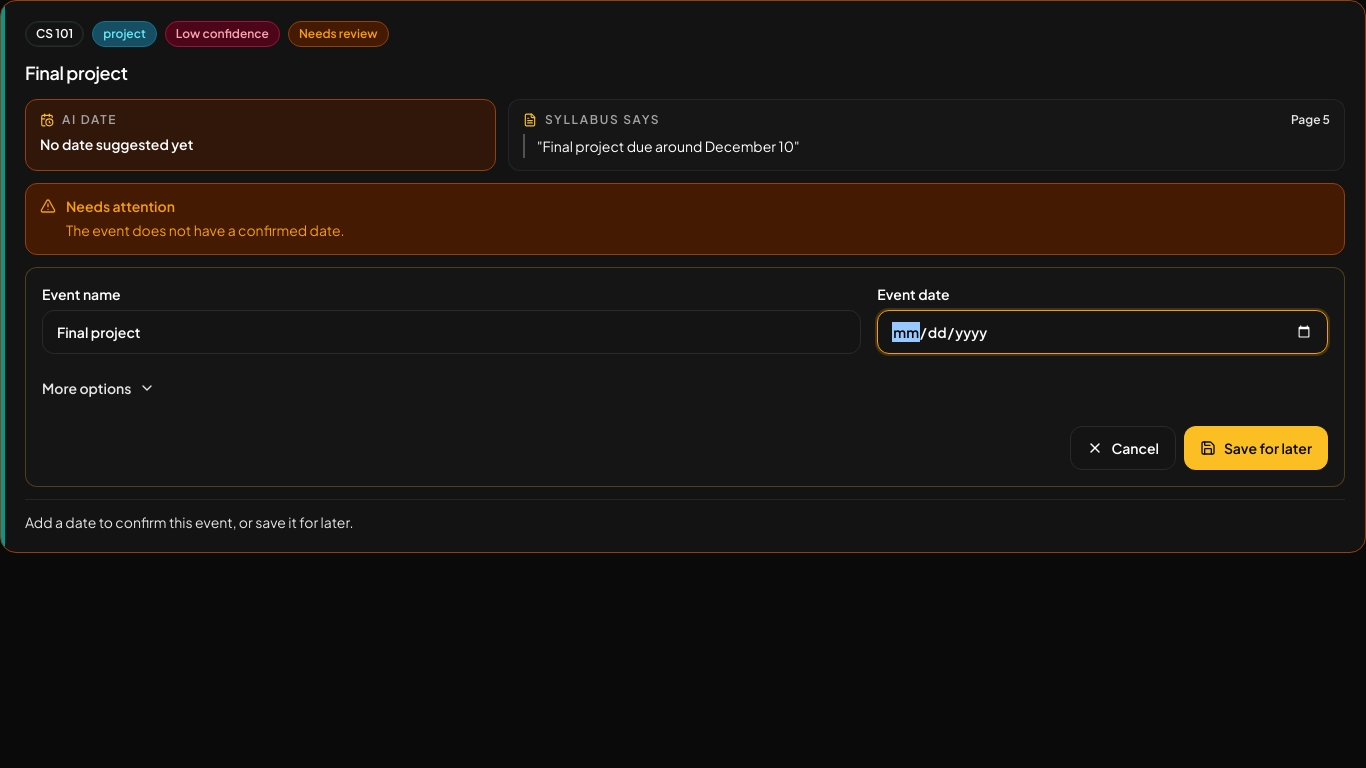
Scenario: keeps undated drafts visible when Save for later fails
Replace the text in the field labelled "Event name" with "Draft that should stay". click: (452, 332)
box: [42,310,861,354]
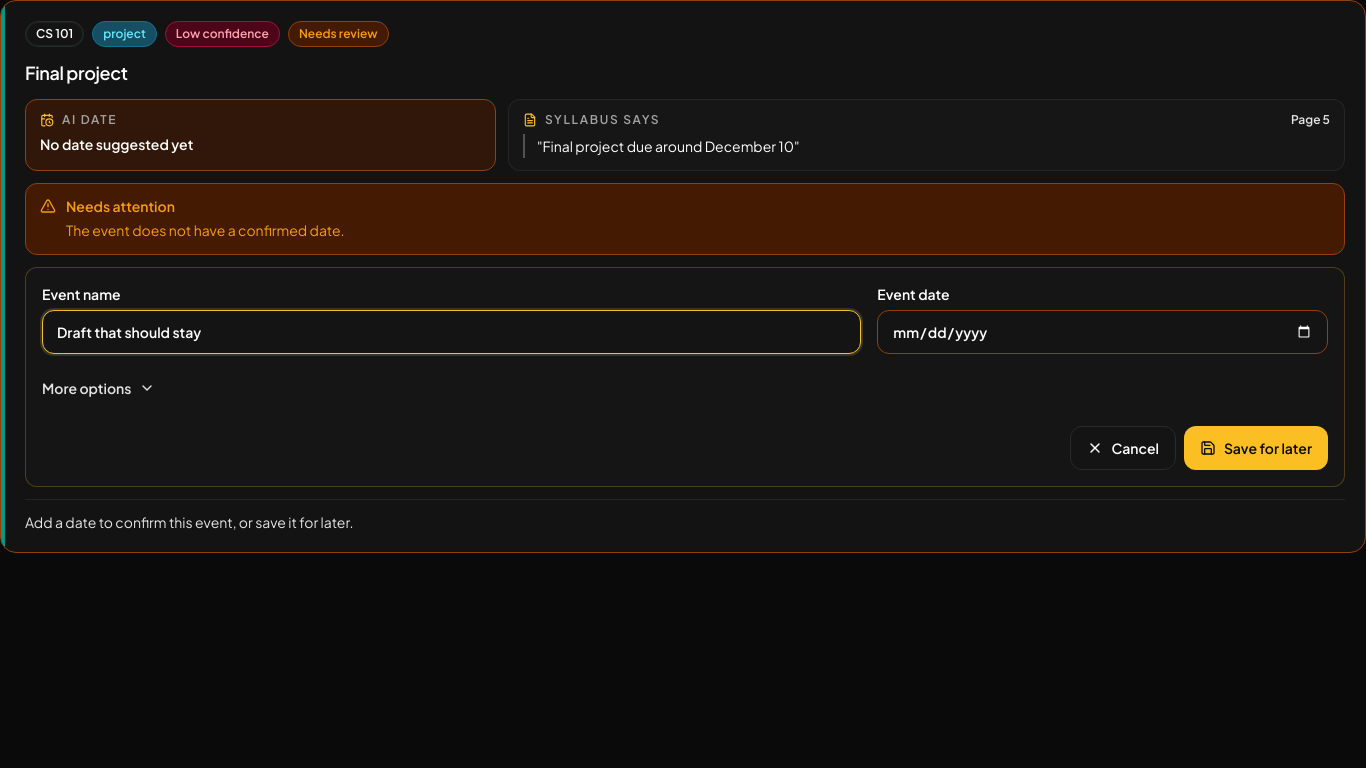
Click the button "Save for later". click: (1256, 448)
box: [1184,426,1328,470]
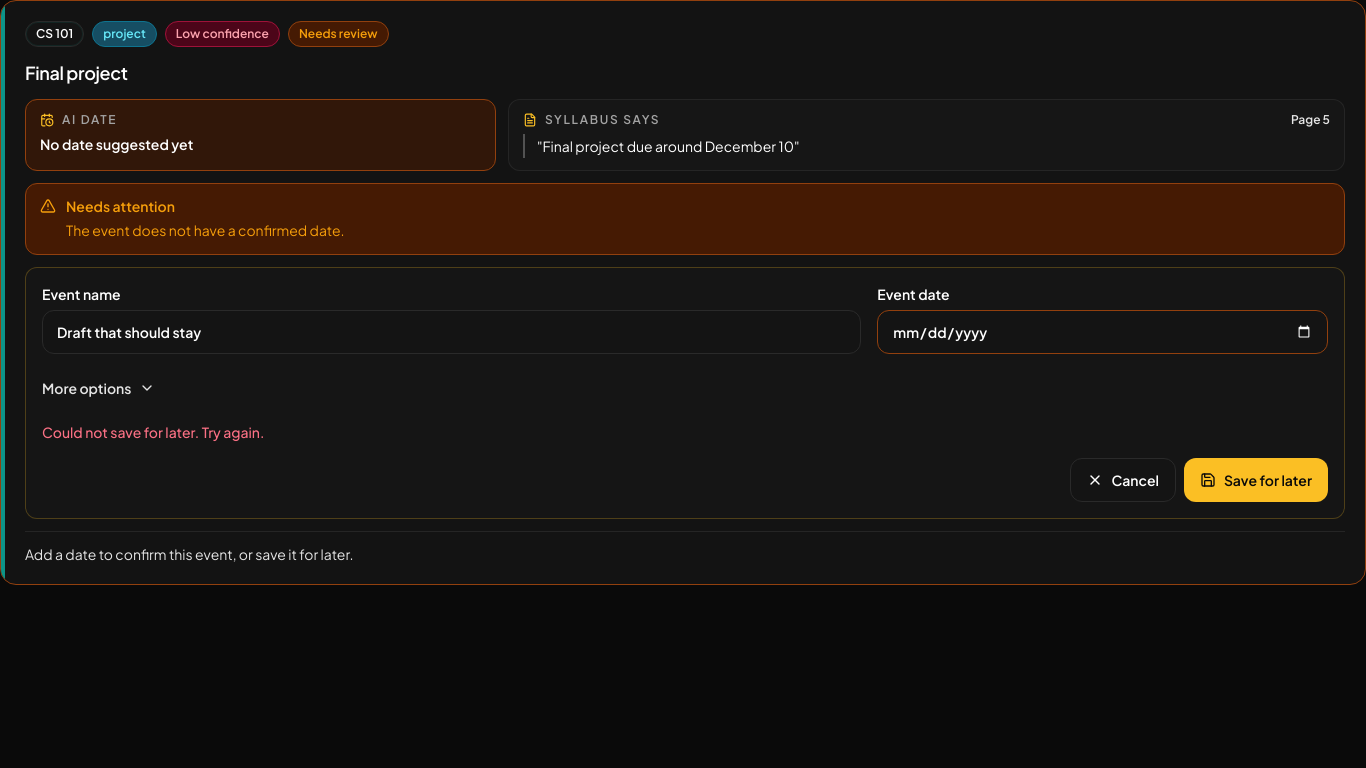
Check: the button "Save for later" is shown, box [1184,458,1328,502]
Check: the message reads "Could not save for later. Try again.", box [42,423,264,441]
